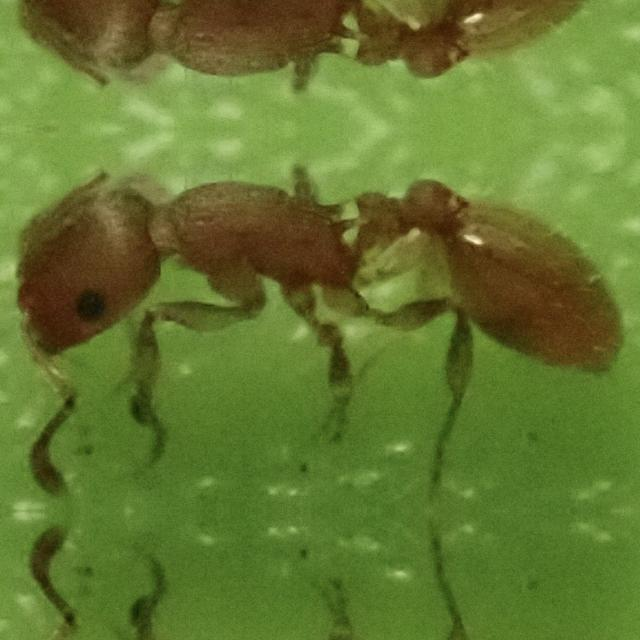Temnothorax: (1, 146, 639, 398), (1, 0, 639, 108)
